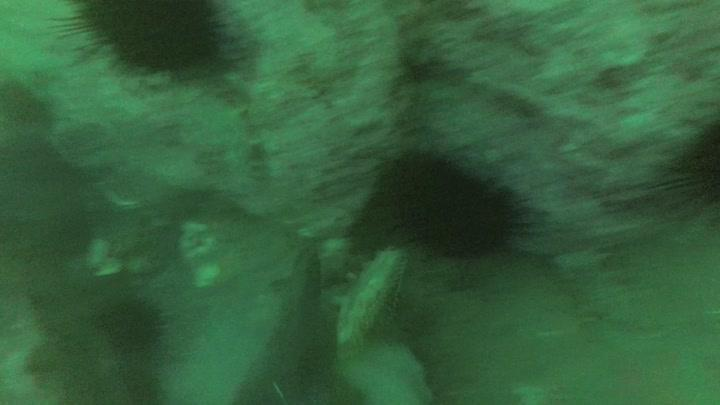urchin: (379, 152, 523, 277), (50, 1, 233, 82), (665, 115, 720, 210)
